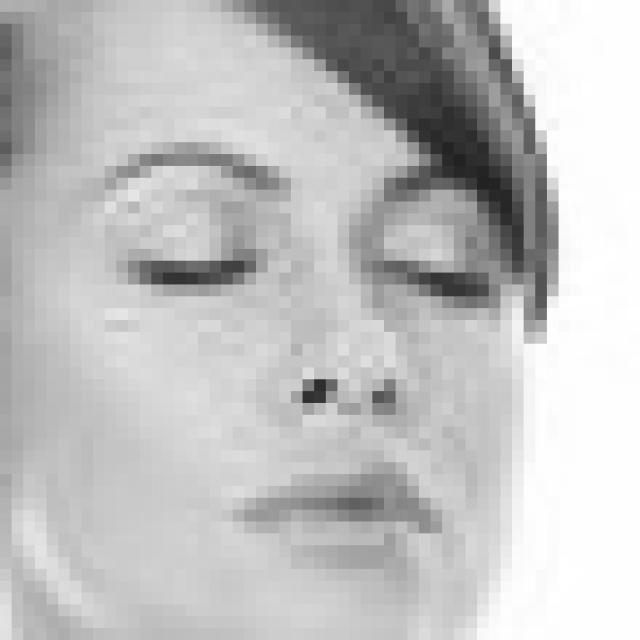real: (12, 4, 528, 624), (138, 191, 492, 319)
